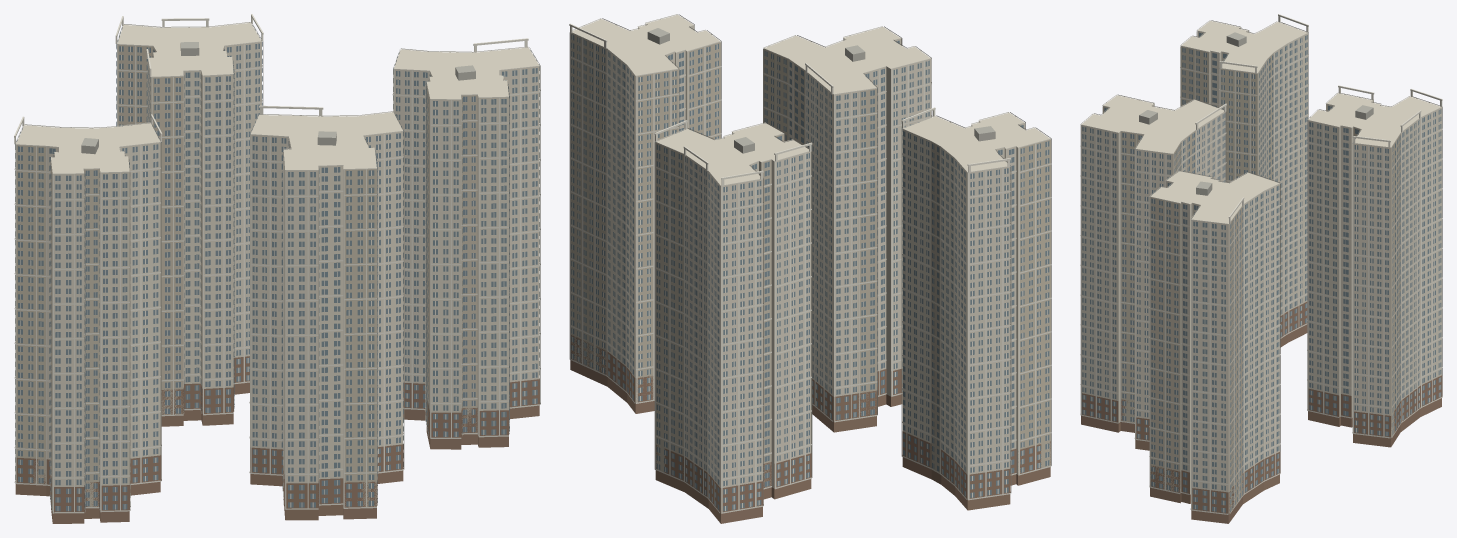
The model's file is representative-a15076302.glb.
The picture shows the model from 3 angles, left to right: view 1: azimuth 30°, elevation 25°; view 2: azimuth 150°, elevation 25°; view 3: azimuth 270°, elevation 25°; orthographic projection. The views are drawn at different scales.
Parts seen in each view (by area): view 1: A15076302_wall002, A15076302_glass002, A15076302_trim002, A15076302_accent002, A15076302_base002, A15076302_roof002; view 2: A15076302_wall002, A15076302_glass002, A15076302_trim002, A15076302_accent002, A15076302_base002, A15076302_roof002; view 3: A15076302_wall002, A15076302_glass002, A15076302_trim002, A15076302_accent002, A15076302_base002, A15076302_roof002.
Part boxes in pixels (box(x1,y1,x2,y2)): A15076302_wall002: box(16, 22, 539, 510); A15076302_glass002: box(15, 25, 539, 511); A15076302_trim002: box(14, 14, 540, 513); A15076302_accent002: box(16, 45, 509, 510); A15076302_base002: box(15, 356, 539, 523); A15076302_roof002: box(81, 42, 475, 154); A15076302_wall002: box(572, 15, 1050, 512); A15076302_glass002: box(571, 34, 1049, 511); A15076302_trim002: box(569, 14, 1051, 513); A15076302_accent002: box(571, 33, 1050, 487); A15076302_base002: box(570, 335, 1050, 523); A15076302_roof002: box(647, 28, 995, 153); A15076302_wall002: box(1081, 21, 1441, 513); A15076302_glass002: box(1082, 32, 1441, 512); A15076302_trim002: box(1080, 14, 1442, 514); A15076302_accent002: box(1102, 46, 1400, 512); A15076302_base002: box(1081, 302, 1442, 523); A15076302_roof002: box(1139, 32, 1373, 195).
Size of the model in its own units: 187 by 131 by 140.
